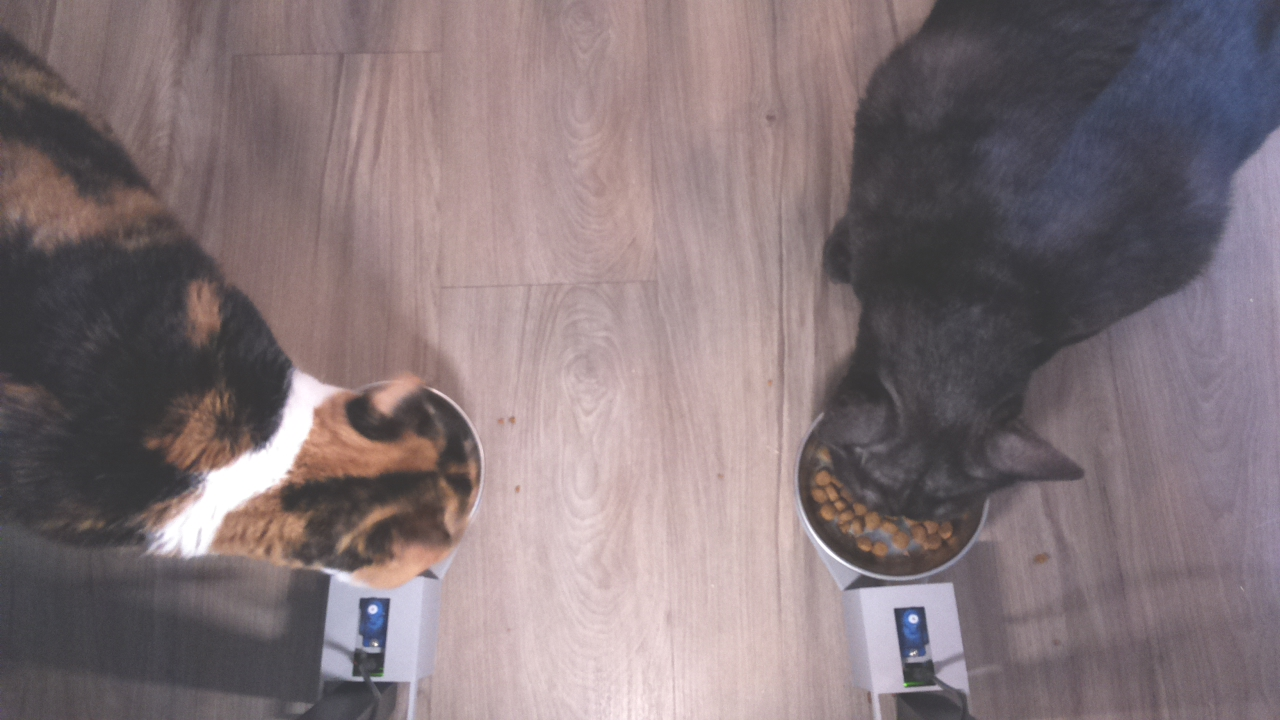bella_eating: (235, 321, 497, 600)
saki_eating: (789, 305, 1092, 586)
